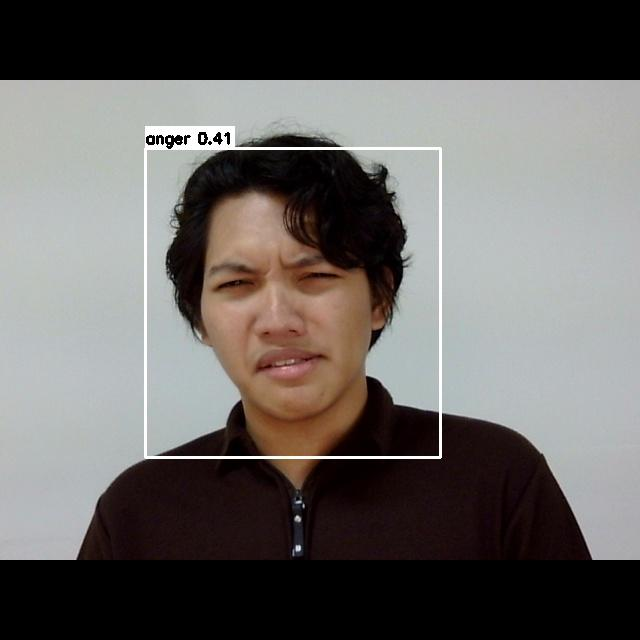Disgust: (191, 239, 385, 398)
